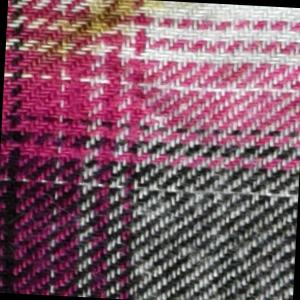Oil Stain: (18, 1, 192, 68)
